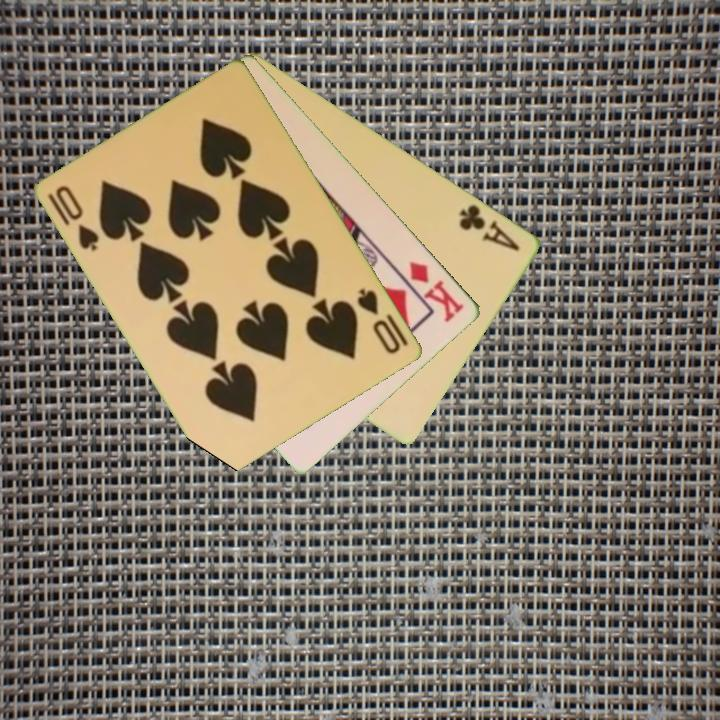10s: (45, 182, 103, 255), (354, 285, 404, 358)
Ac: (456, 200, 524, 254)
Kd: (406, 257, 468, 325)
